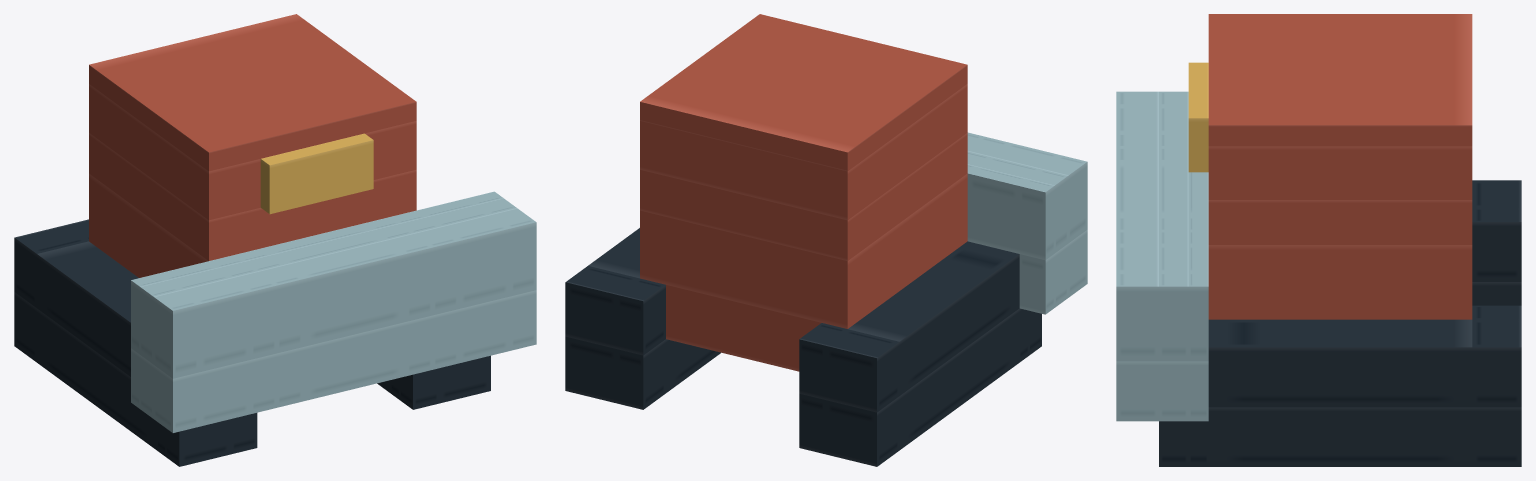
The model's file is sc_enemy_ram_bot.obj.
The picture shows the model from 3 angles, left to right: view 1: azimuth 30°, elevation 25°; view 2: azimuth 150°, elevation 25°; view 3: azimuth 270°, elevation 25°; orthographic projection. The views are drawn at different scales.
Bounding box in the file's own units: 14 × 10.5 × 12.3.
Materials: 1 (1 with a texture image).
